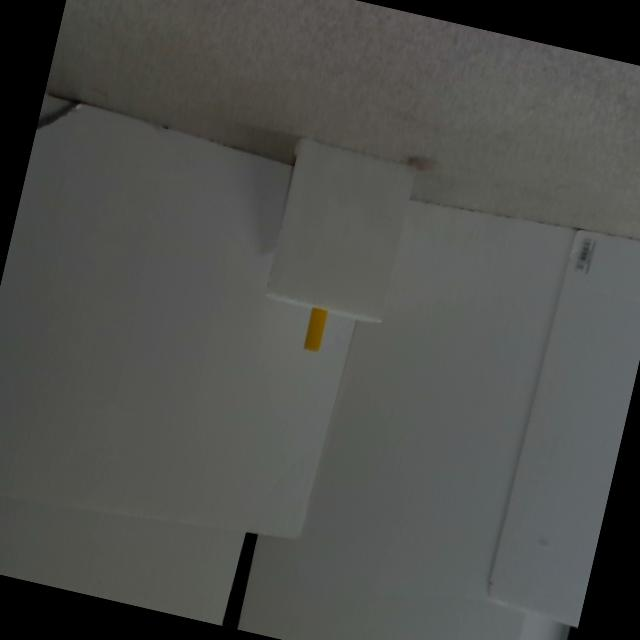yellow_cylinder: (302, 307, 327, 352)
